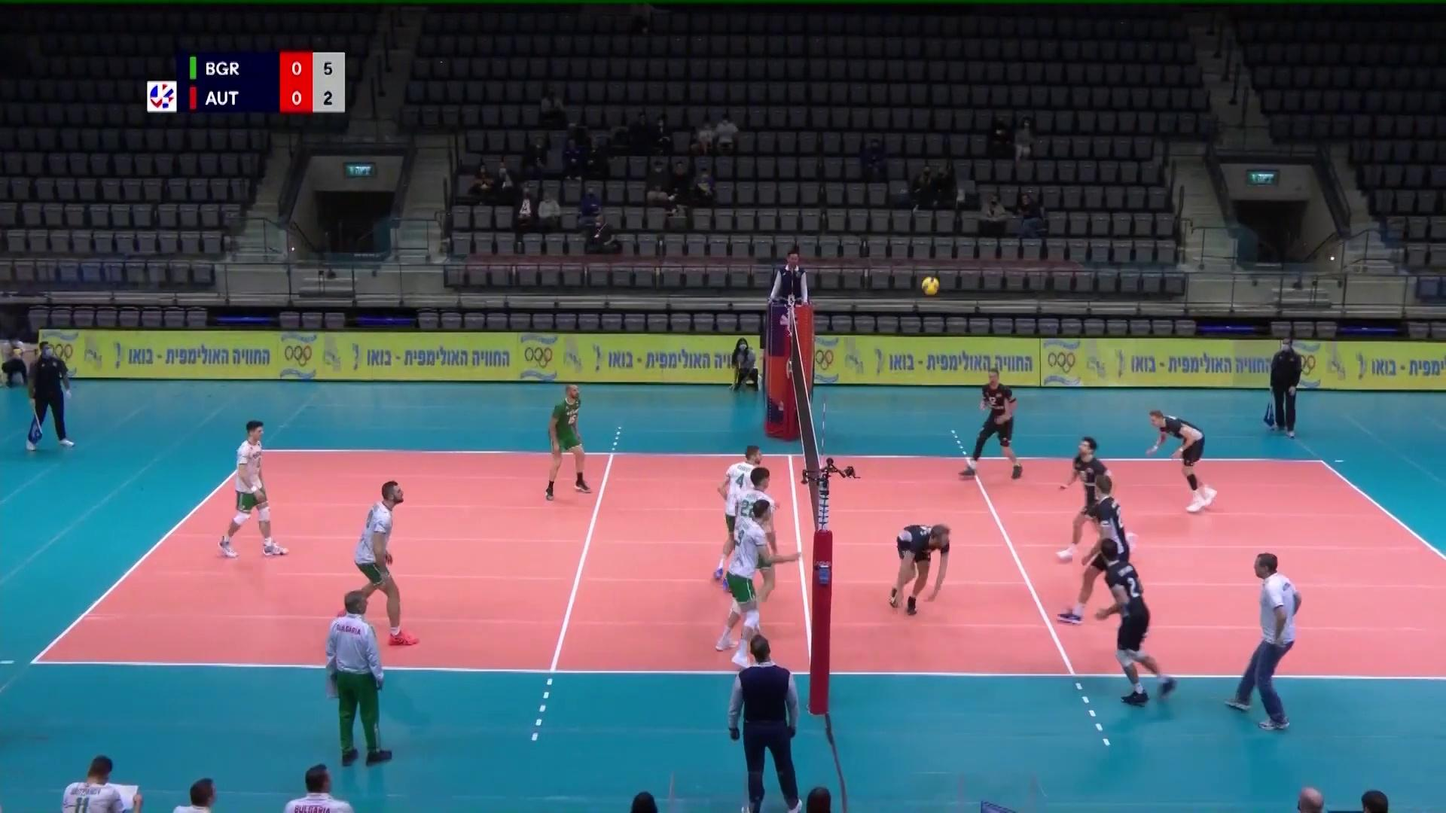ball: (921, 275, 941, 297)
